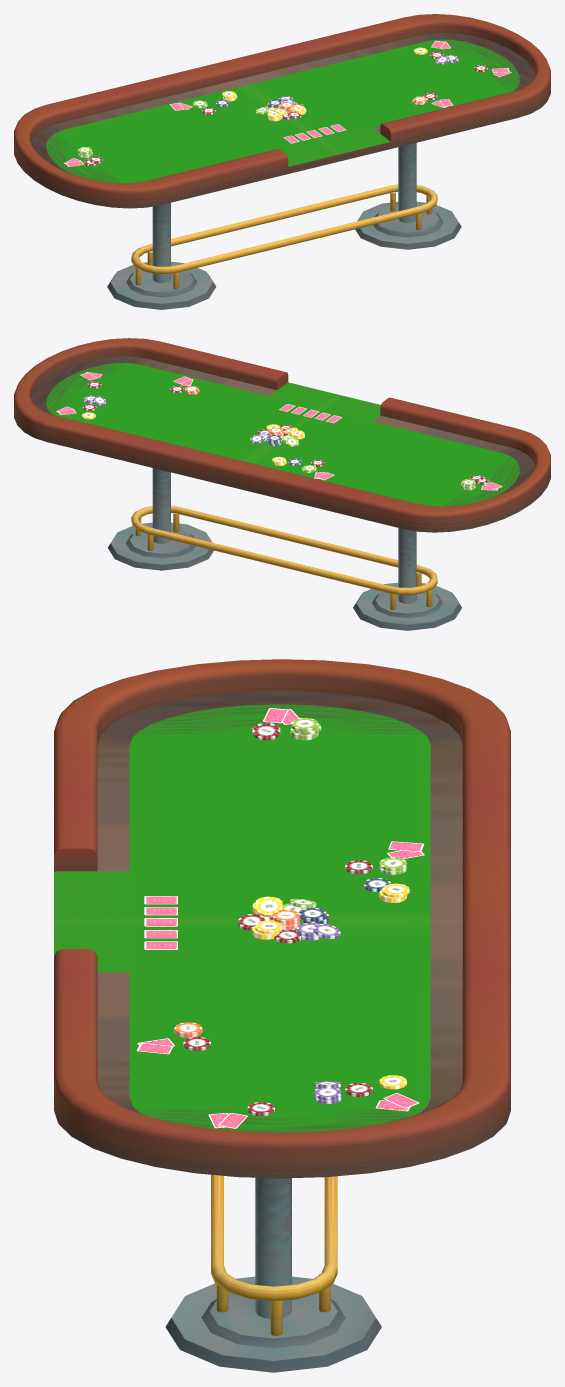
The picture shows the model from 3 angles, top to bottom: view 1: azimuth 30°, elevation 25°; view 2: azimuth 150°, elevation 25°; view 3: azimuth 270°, elevation 25°; orthographic projection. The views are drawn at different scales.
Parts seen in each view (by area): view 1: PokerTable; view 2: PokerTable; view 3: PokerTable.
Part boxes in pixels (x1,y1,x2,y2): PokerTable: [14, 14, 550, 309]; PokerTable: [14, 338, 550, 630]; PokerTable: [54, 659, 510, 1372].
Size of what is drawn, in the model's own units: 3.64 by 1.08 by 1.45.
1 material, 1 textured.
